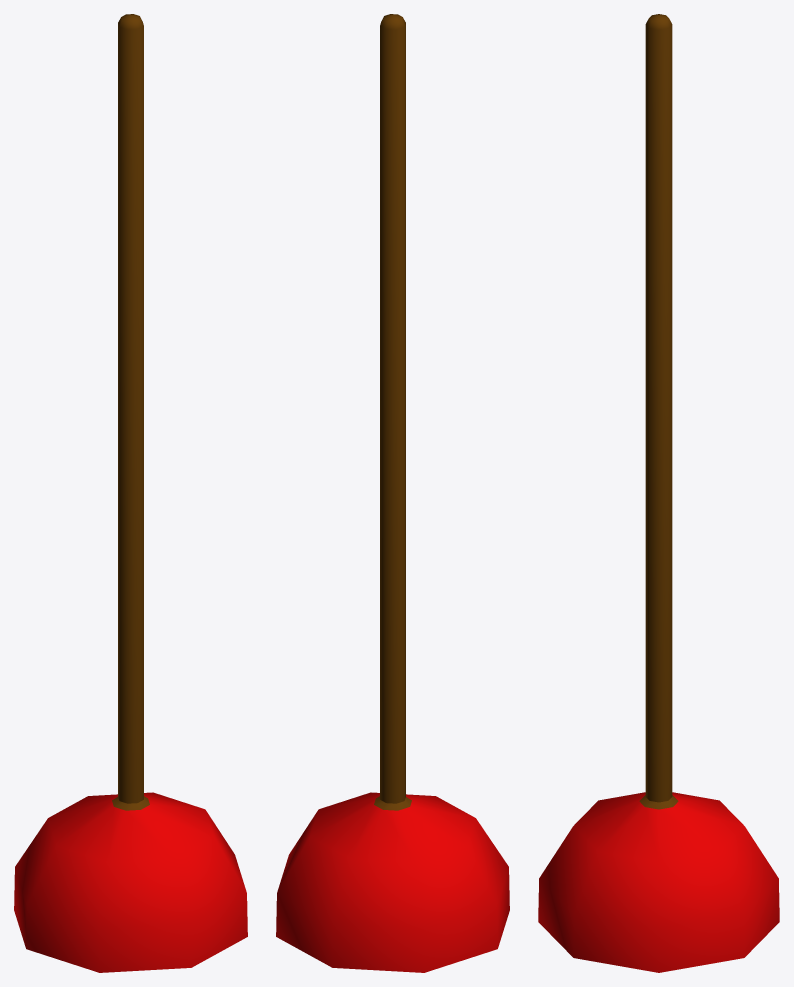
File: Hea_Ba_Plumber.fbx
The picture shows the model from 3 angles, left to right: view 1: azimuth 30°, elevation 25°; view 2: azimuth 150°, elevation 25°; view 3: azimuth 270°, elevation 25°; orthographic projection.
Parts seen in each view (by area): view 1: Plumber_I3; view 2: Plumber_I3; view 3: Plumber_I3.
Part boxes in pixels (<box>): Plumber_I3: <box>14,14,247,972</box>; Plumber_I3: <box>276,14,509,972</box>; Plumber_I3: <box>538,14,779,972</box>.
Size of the model in its own units: 20.35 by 84.21 by 20.35.
